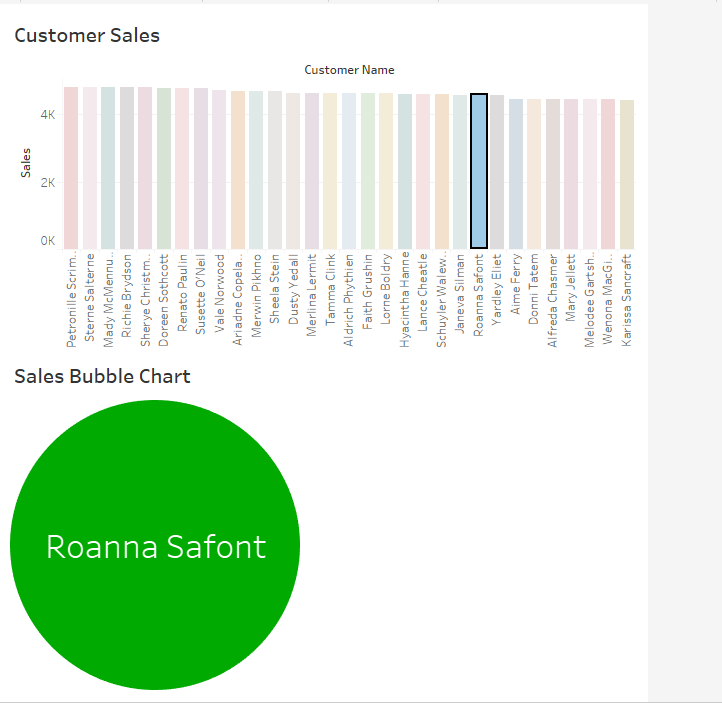

What the dashboard file says about the page in this screenshot:
{"tool":"tableau","page":{"name":"Dashboard 1","canvas":[650,860],"ordinal":0},"visuals":[{"type":"worksheet","title":"Customer Sales","mark":"Automatic","rows":["Sales"],"cols":["Customer Name"],"box":[8,8,634,422]},{"type":"worksheet","title":"Sales Bubble Chart","mark":"Circle","box":[8,430,634,422]}]}

Visuals, with their boxes on the page's 650x860 design canvas (x1, y1, x2, y2). These are canvas units, not pixel positions in the 722x703 screenshot, which may show the page scaled, cropped or inside an application window:
"Customer Sales" worksheet: Rect(8, 8, 642, 430)
"Sales Bubble Chart" worksheet (Circle marks): Rect(8, 430, 642, 852)
